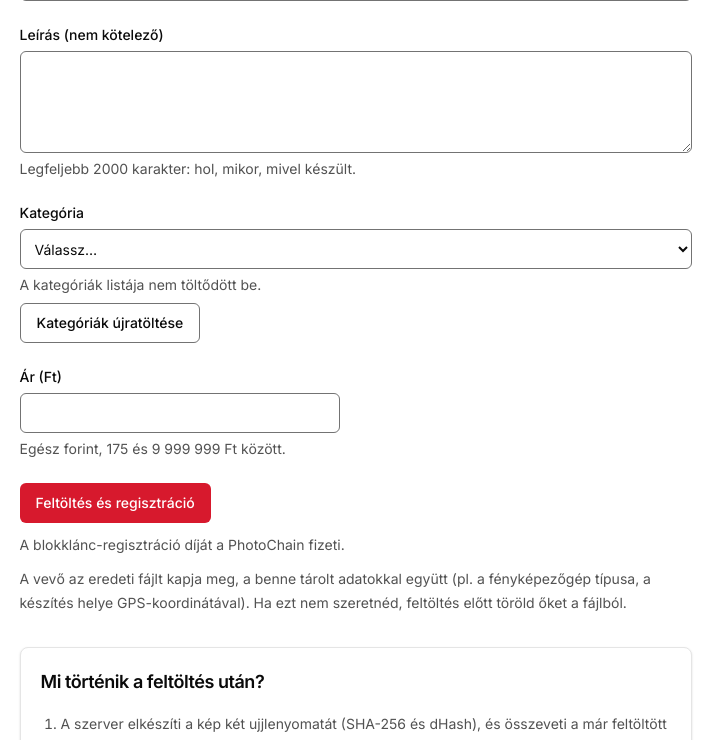
it: UploadPage – az oldal és a fájl kiválasztása › ha a kategóriák nem töltődnek be: érthető hiba és újratöltés gomb, nem egy teljesíthetetlen „Válassz kategóriát”
(page scrolled)
Click the button "Kategóriák újratöltése": click(110, 323) [20,303,200,343]
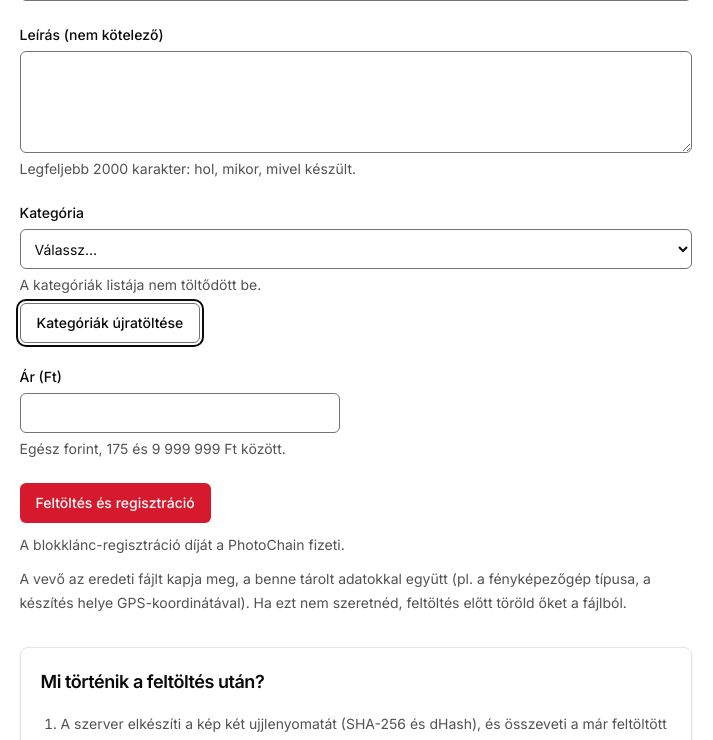
Click the button "Kategóriák újratöltése": click(110, 323) [20,303,200,343]
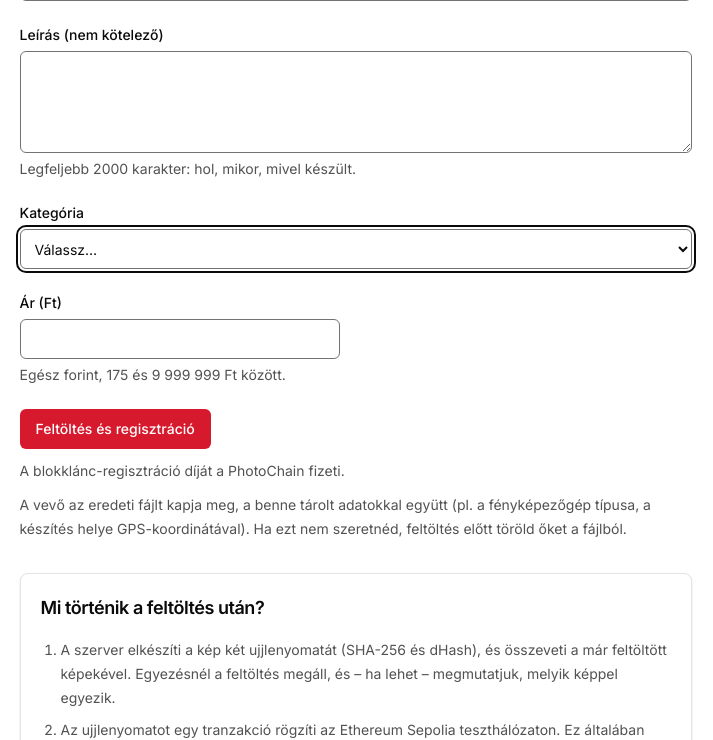
Now the button "Kategóriák újratöltése" is gone
